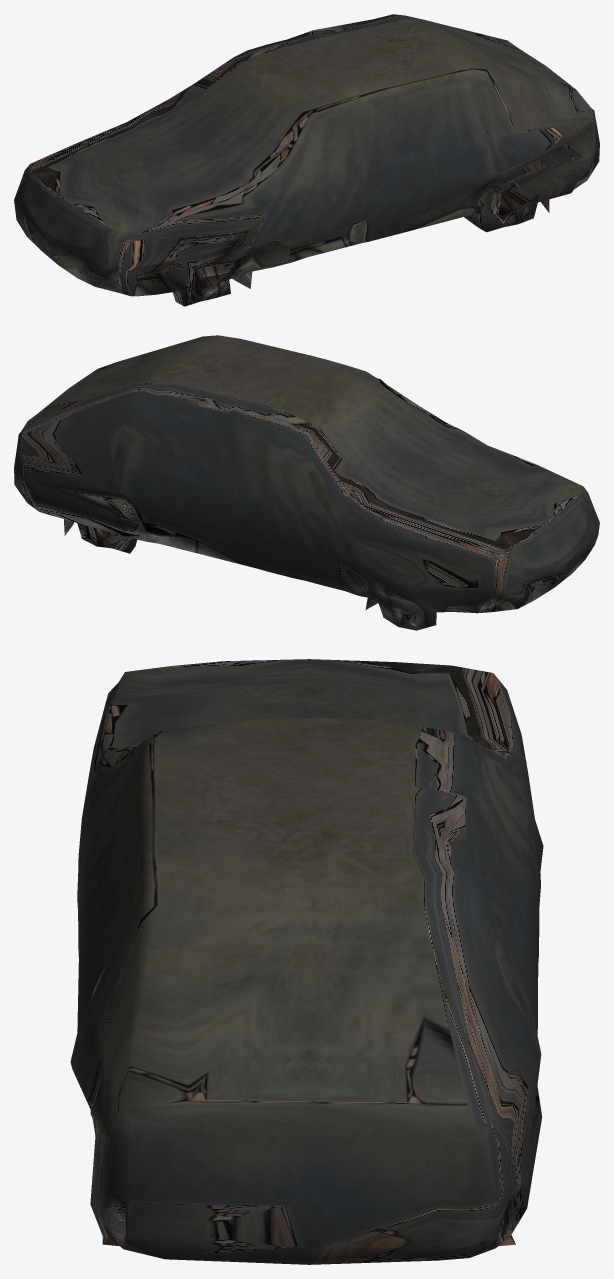
File: covered_car.glb
3 renders of one model, top to bottom at view 1: azimuth 30°, elevation 25°; view 2: azimuth 150°, elevation 25°; view 3: azimuth 270°, elevation 25°, orthographic. The views are drawn at different scales.
Visible parts, largest first — view 1: covered_car; view 2: covered_car; view 3: covered_car.
Part boxes in pixels (<box>): covered_car: <box>14,14,599,306</box>; covered_car: <box>14,335,599,630</box>; covered_car: <box>70,659,543,1264</box>.
Bounding box in the file's own units: 4.35 × 1.35 × 1.75.
Materials: 1 (1 with a texture image).
